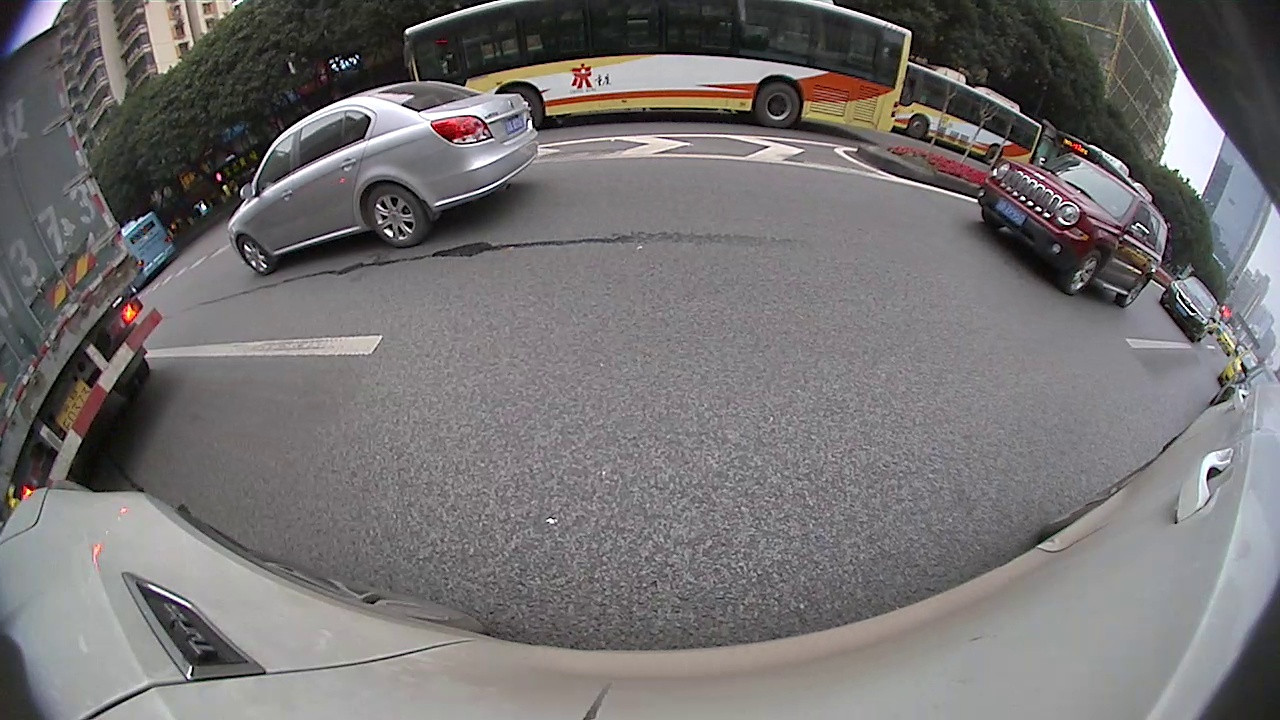bus: (404, 1, 910, 143), (897, 62, 1043, 170), (117, 213, 177, 291)
car: (229, 80, 541, 273), (978, 149, 1171, 310), (1158, 281, 1221, 343)
front: (1058, 248, 1105, 296), (236, 233, 277, 273), (908, 114, 929, 140)
rear: (365, 181, 431, 249), (753, 80, 802, 131), (1114, 274, 1148, 309)
truck: (3, 24, 163, 516)
